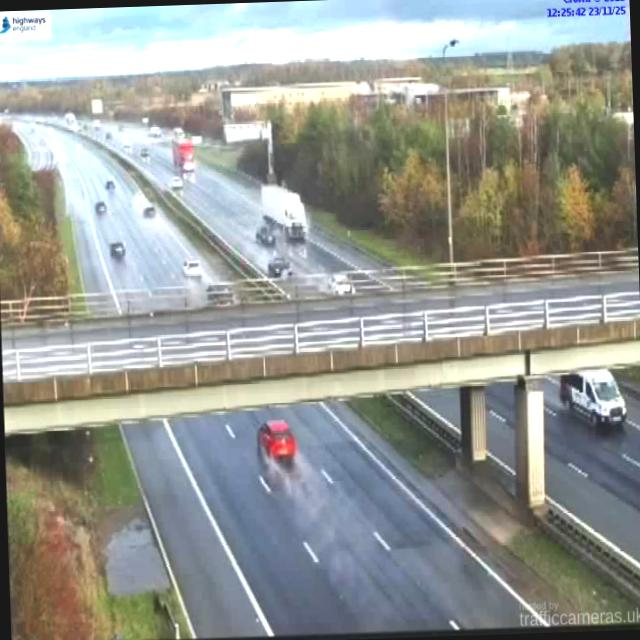foliage: (448, 95, 636, 257), (271, 104, 446, 258), (0, 125, 67, 298)
